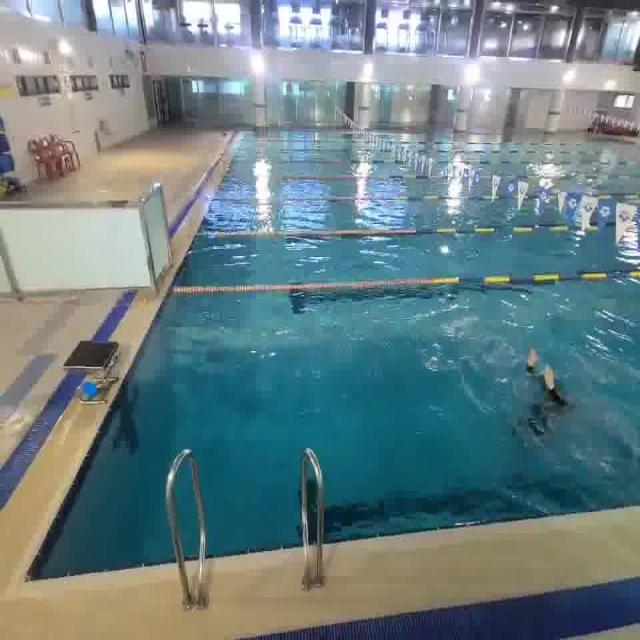Drowning: (496, 331, 584, 447)
